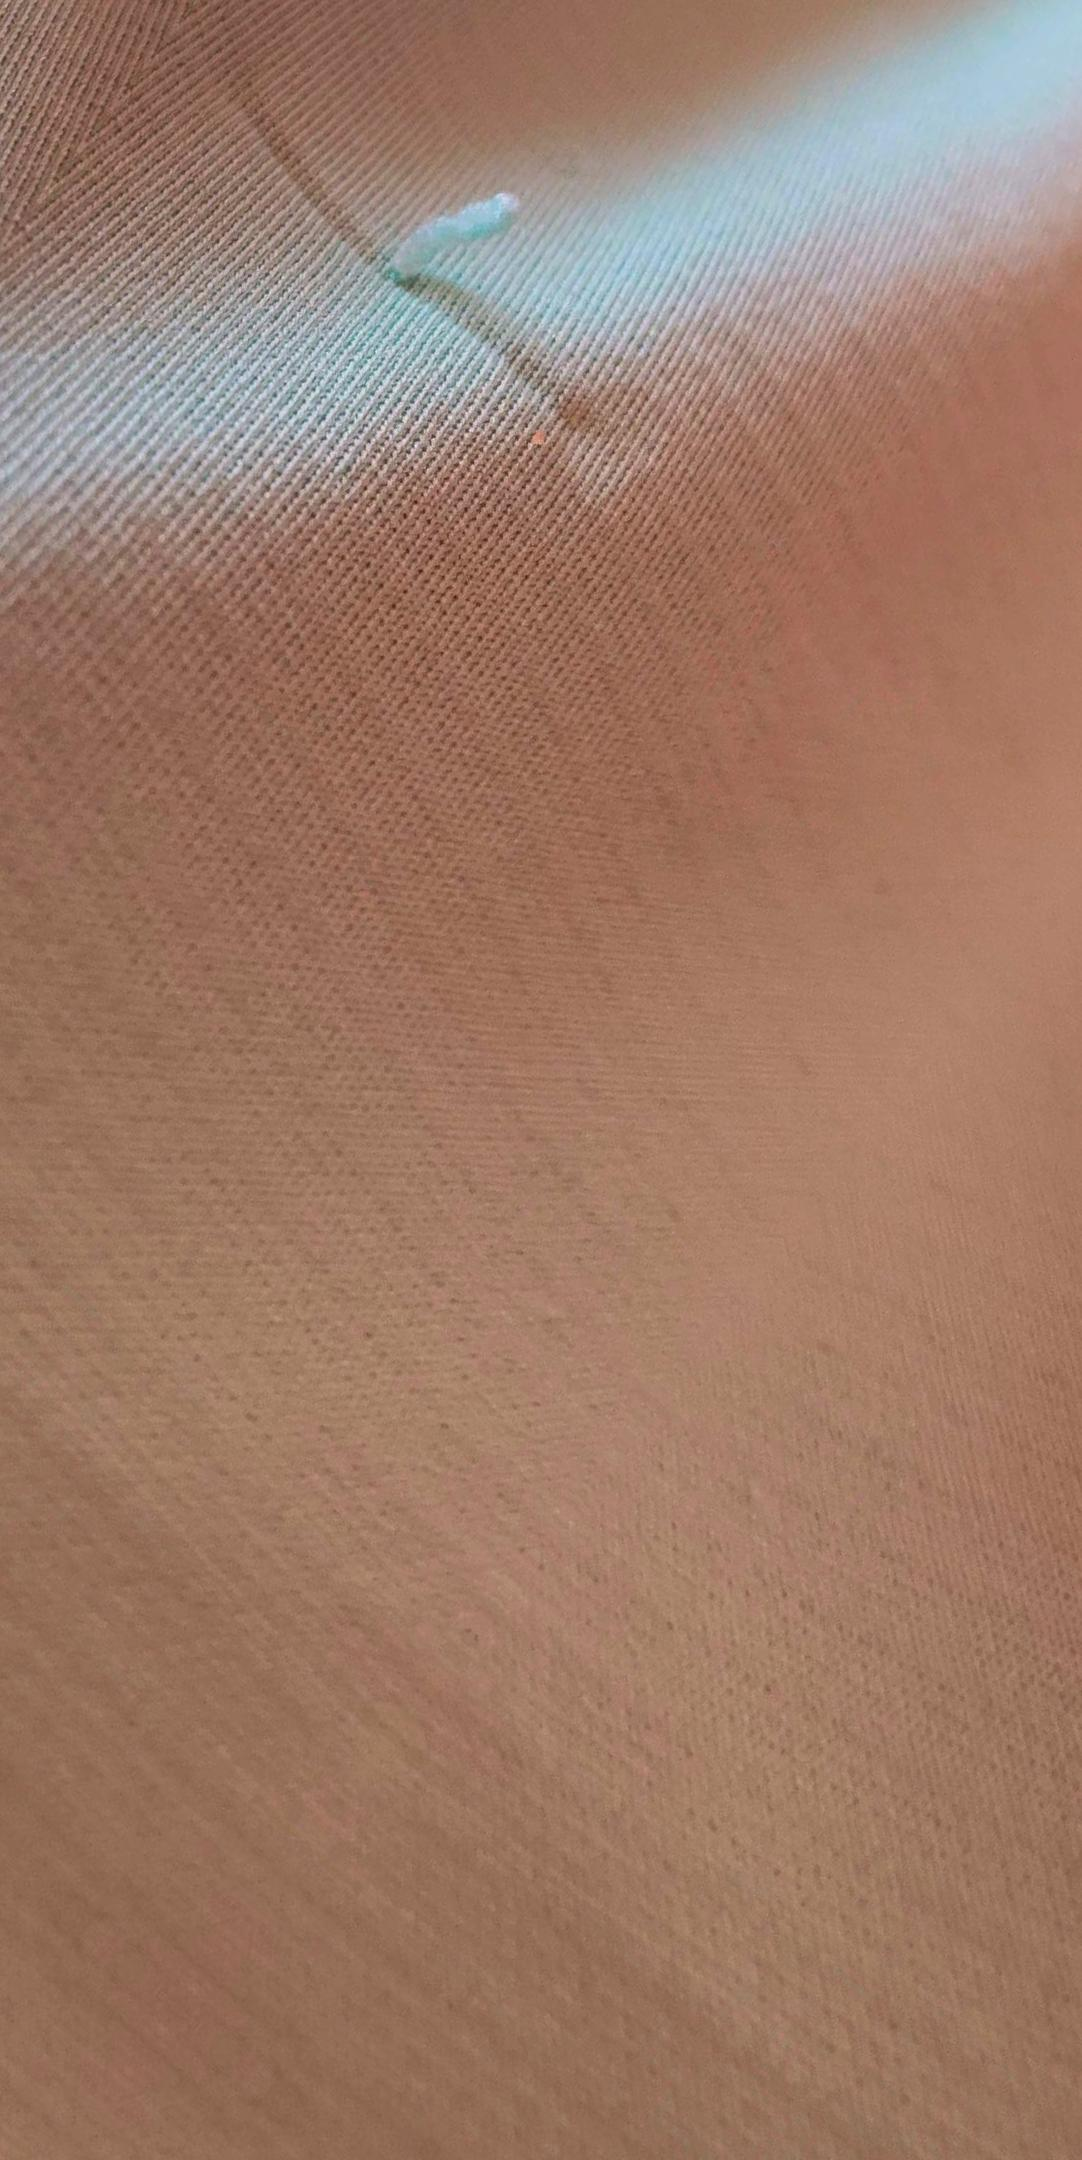snag: (346, 132, 548, 346)
